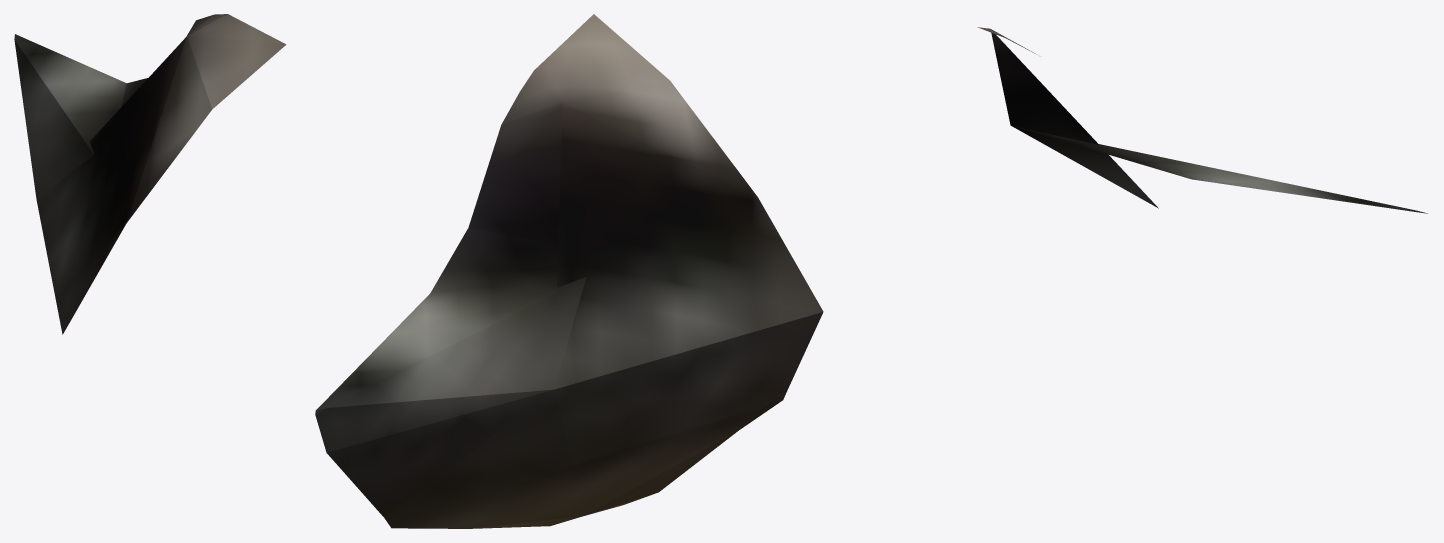
3 views of the same model, side by side, from view 1: azimuth 30°, elevation 25°; view 2: azimuth 150°, elevation 25°; view 3: azimuth 270°, elevation 25° (orthographic). The views are drawn at different scales.
Bounding box in the file's own units: 0.1178 × 0.2435 × 0.2476.
Materials: 1 (1 with a texture image).
